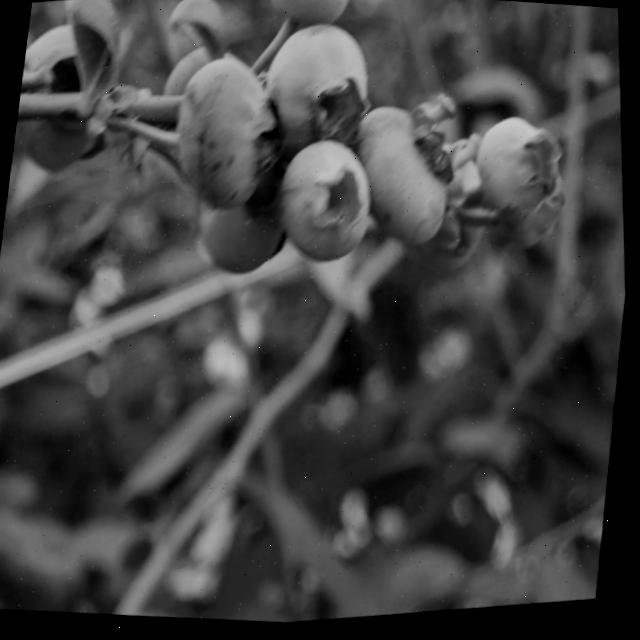Semi-RipeBlueBerry: (160, 44, 298, 226)
UnripeBlueBerry: (344, 96, 473, 267), (255, 13, 391, 166), (267, 127, 391, 279)
